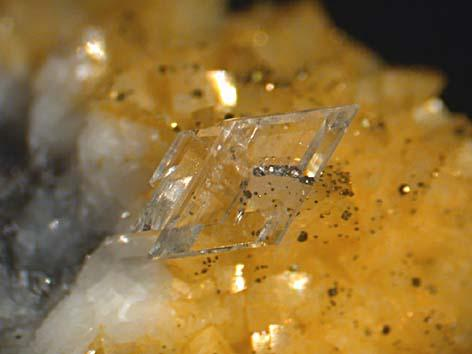gypsum: (137, 106, 359, 258)
